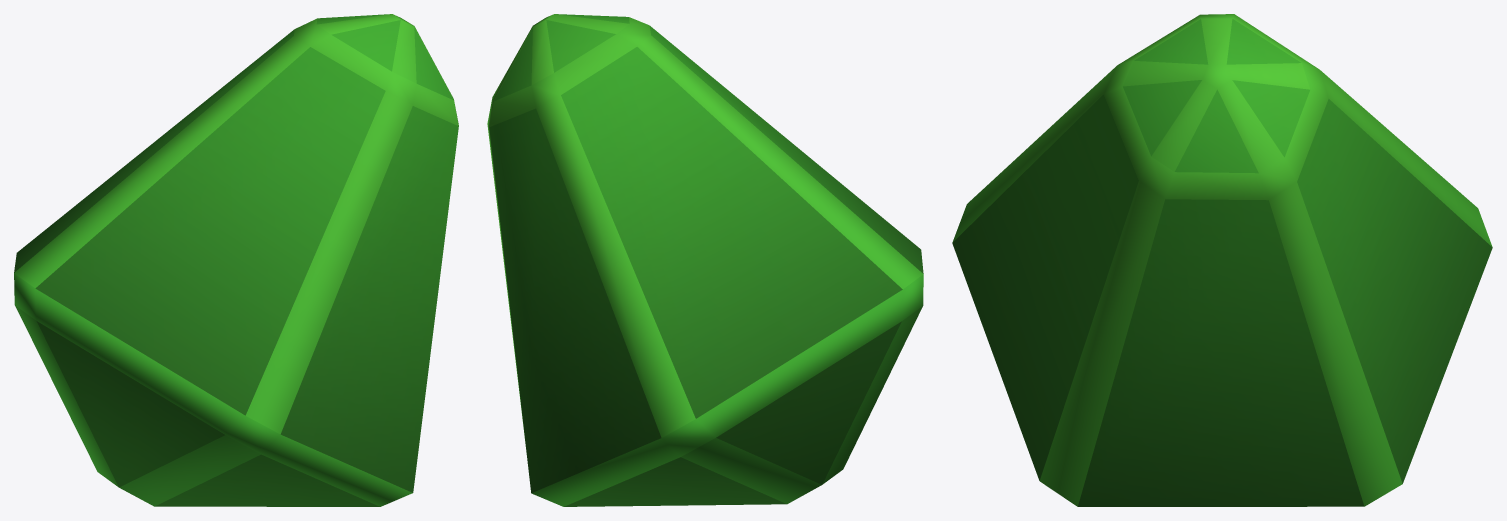
The model's file is christal_emerald_7.fbx.
The picture shows the model from 3 angles, left to right: view 1: azimuth 30°, elevation 25°; view 2: azimuth 150°, elevation 25°; view 3: azimuth 270°, elevation 25°; orthographic projection. The views are drawn at different scales.
Visible parts, largest first — view 1: christal_emerald_7; view 2: christal_emerald_7; view 3: christal_emerald_7.
Boxes of the visible parts, x1=… form: christal_emerald_7: x1=14, y1=14, x2=458, y2=506; christal_emerald_7: x1=487, y1=14, x2=923, y2=506; christal_emerald_7: x1=952, y1=14, x2=1492, y2=506.
Size of the model in its own units: 47.99 by 48.58 by 48.9.
1 material, 1 textured.
